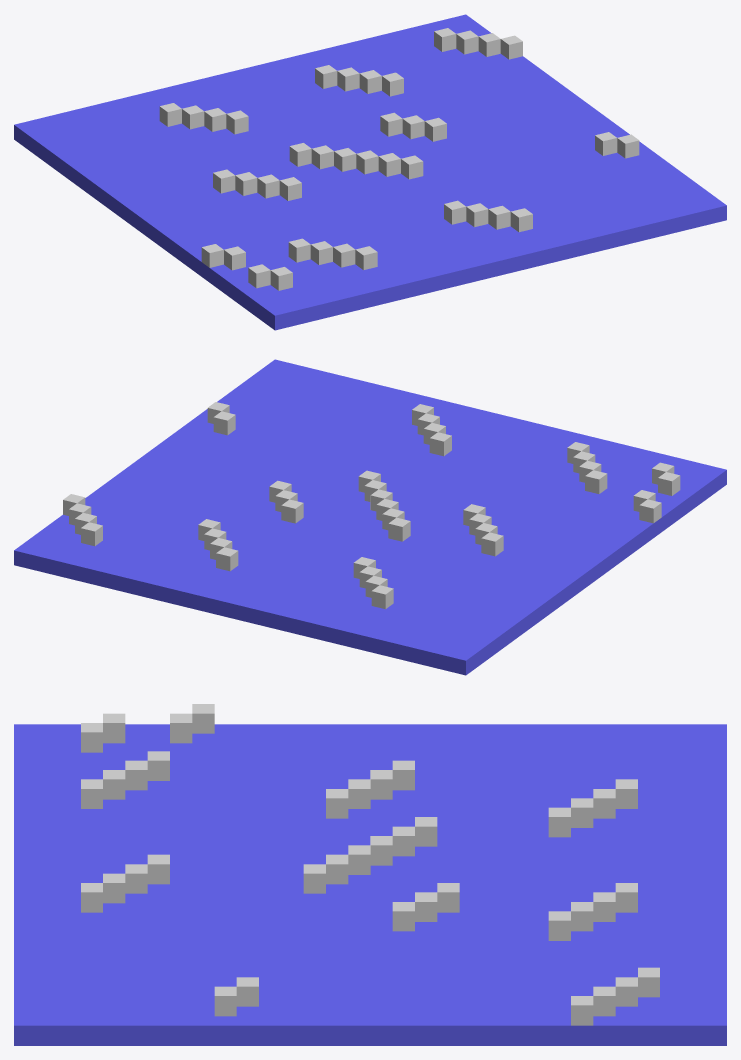
Rendered from water6.obj.
The picture shows the model from 3 angles, top to bottom: view 1: azimuth 30°, elevation 25°; view 2: azimuth 150°, elevation 25°; view 3: azimuth 270°, elevation 25°; orthographic projection. The views are drawn at different scales.
Bounding box in the file's own units: 32 × 2 × 32.
1 material, 1 textured.
